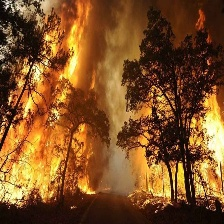fire: (1, 10, 91, 203), (194, 15, 224, 209), (129, 163, 193, 215)
smoke: (97, 3, 224, 120), (90, 3, 117, 182)
